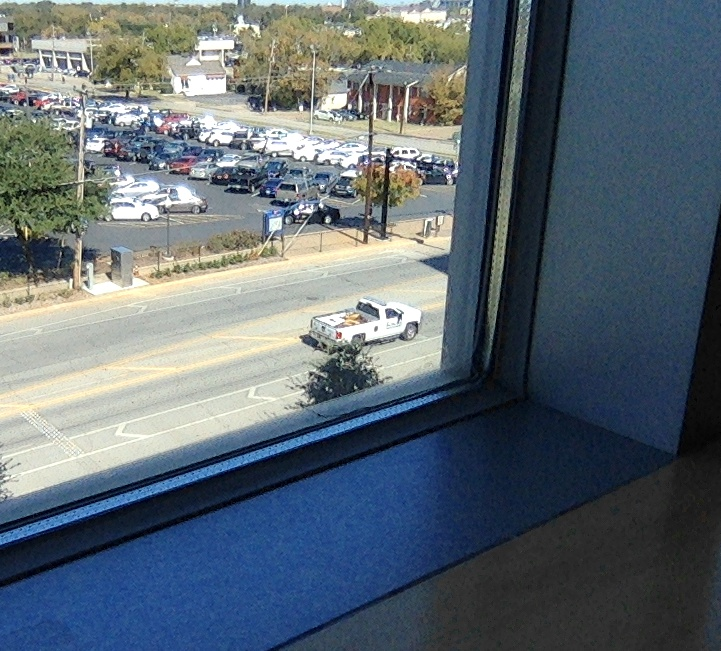car: (300, 300, 421, 351)
